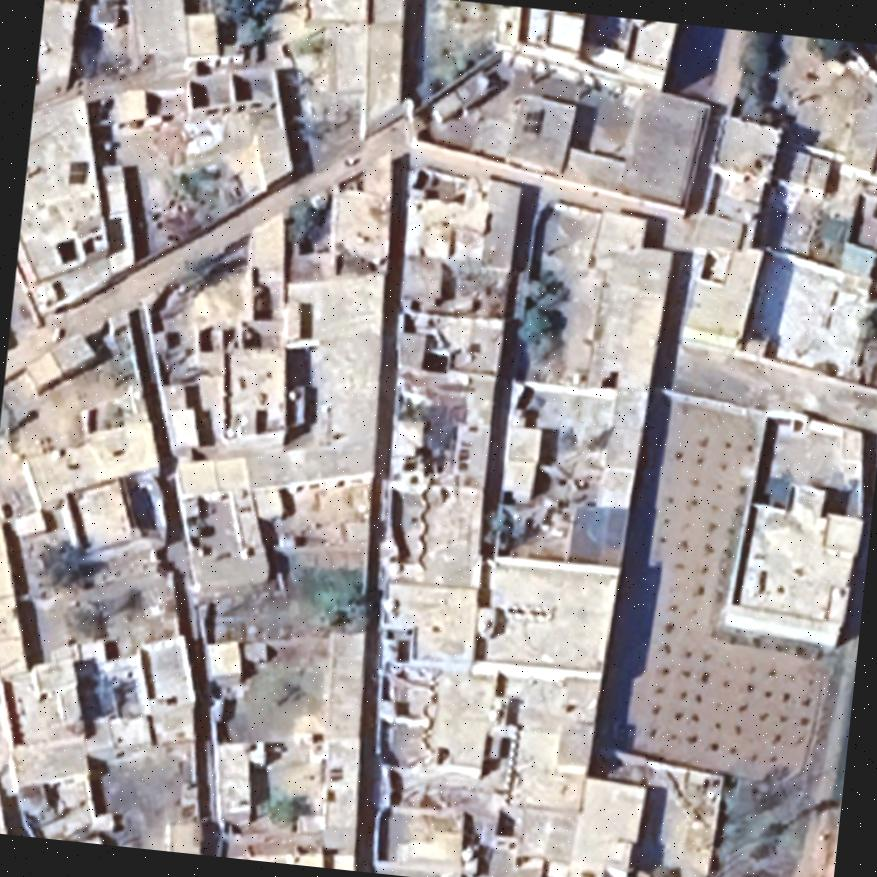Solarpanel: (65, 156, 90, 188)
